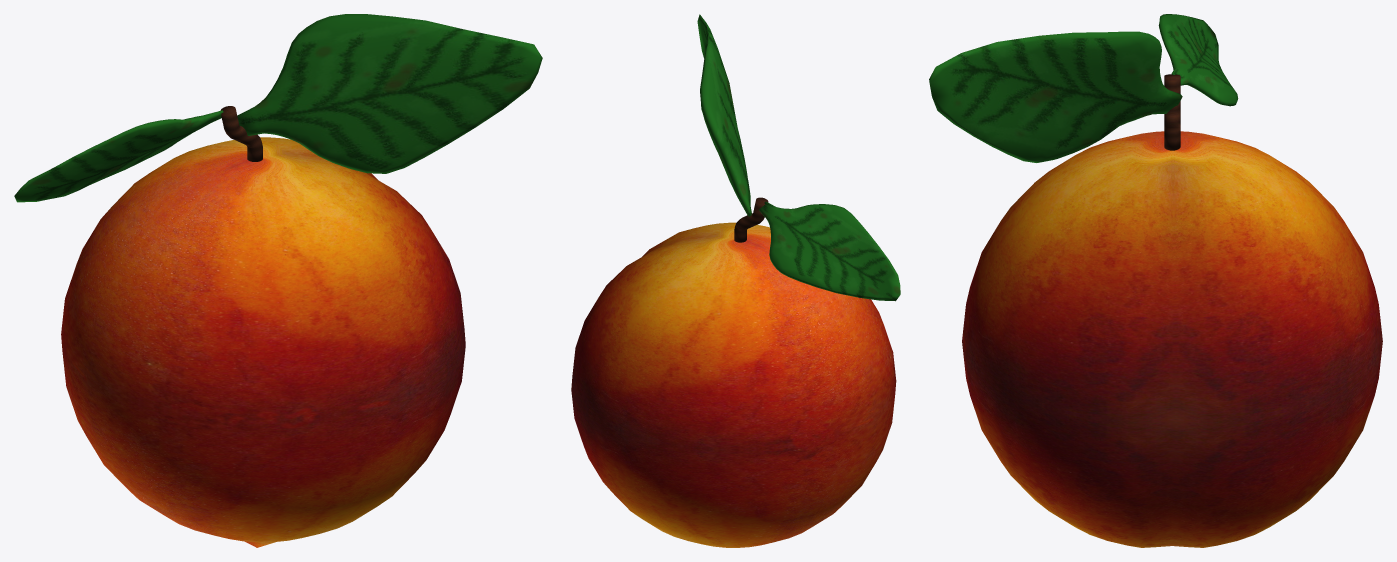
The model's file is peach.obj.
3 views of the same model, side by side, from view 1: azimuth 30°, elevation 25°; view 2: azimuth 150°, elevation 25°; view 3: azimuth 270°, elevation 25° (orthographic). The views are drawn at different scales.
Visible parts, largest first — view 1: Sphere, Sphere.001, Sphere.003, Sphere.002; view 2: Sphere, Sphere.003, Sphere.001, Sphere.002; view 3: Sphere, Sphere.001, Sphere.003, Sphere.002.
Part boxes in pixels (x1,y1,x2,y2): Sphere: (61, 137, 465, 547); Sphere.001: (237, 14, 542, 173); Sphere.003: (14, 110, 223, 202); Sphere.002: (220, 106, 262, 161); Sphere: (571, 222, 896, 547); Sphere.003: (759, 201, 900, 301); Sphere.001: (697, 14, 751, 216); Sphere.002: (734, 197, 768, 242); Sphere: (962, 131, 1382, 547); Sphere.001: (929, 31, 1182, 162); Sphere.003: (1158, 14, 1238, 106); Sphere.002: (1164, 74, 1180, 150).
Size of the model in its own units: 2.28 by 2.97 by 2.16.
Materials: 3 (3 with a texture image).
